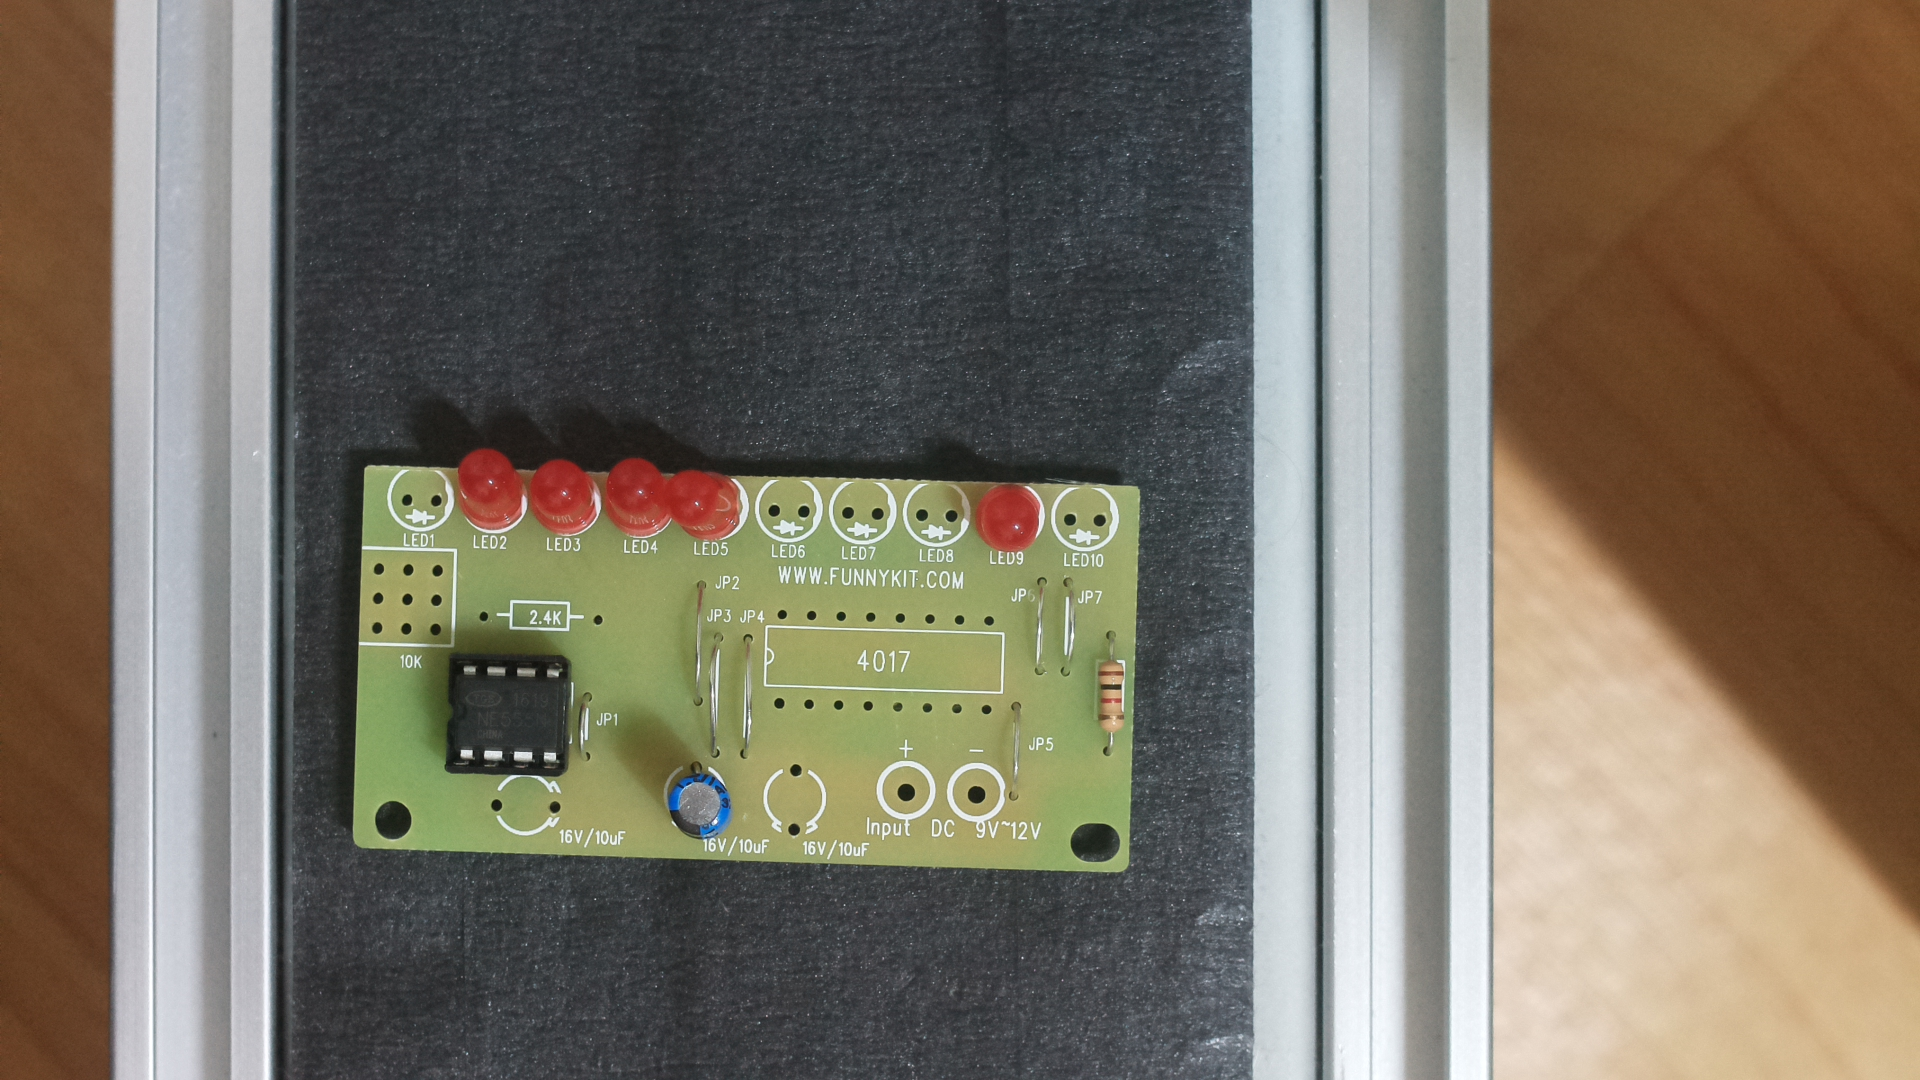B_Missing_part: (340, 439, 1149, 894)
